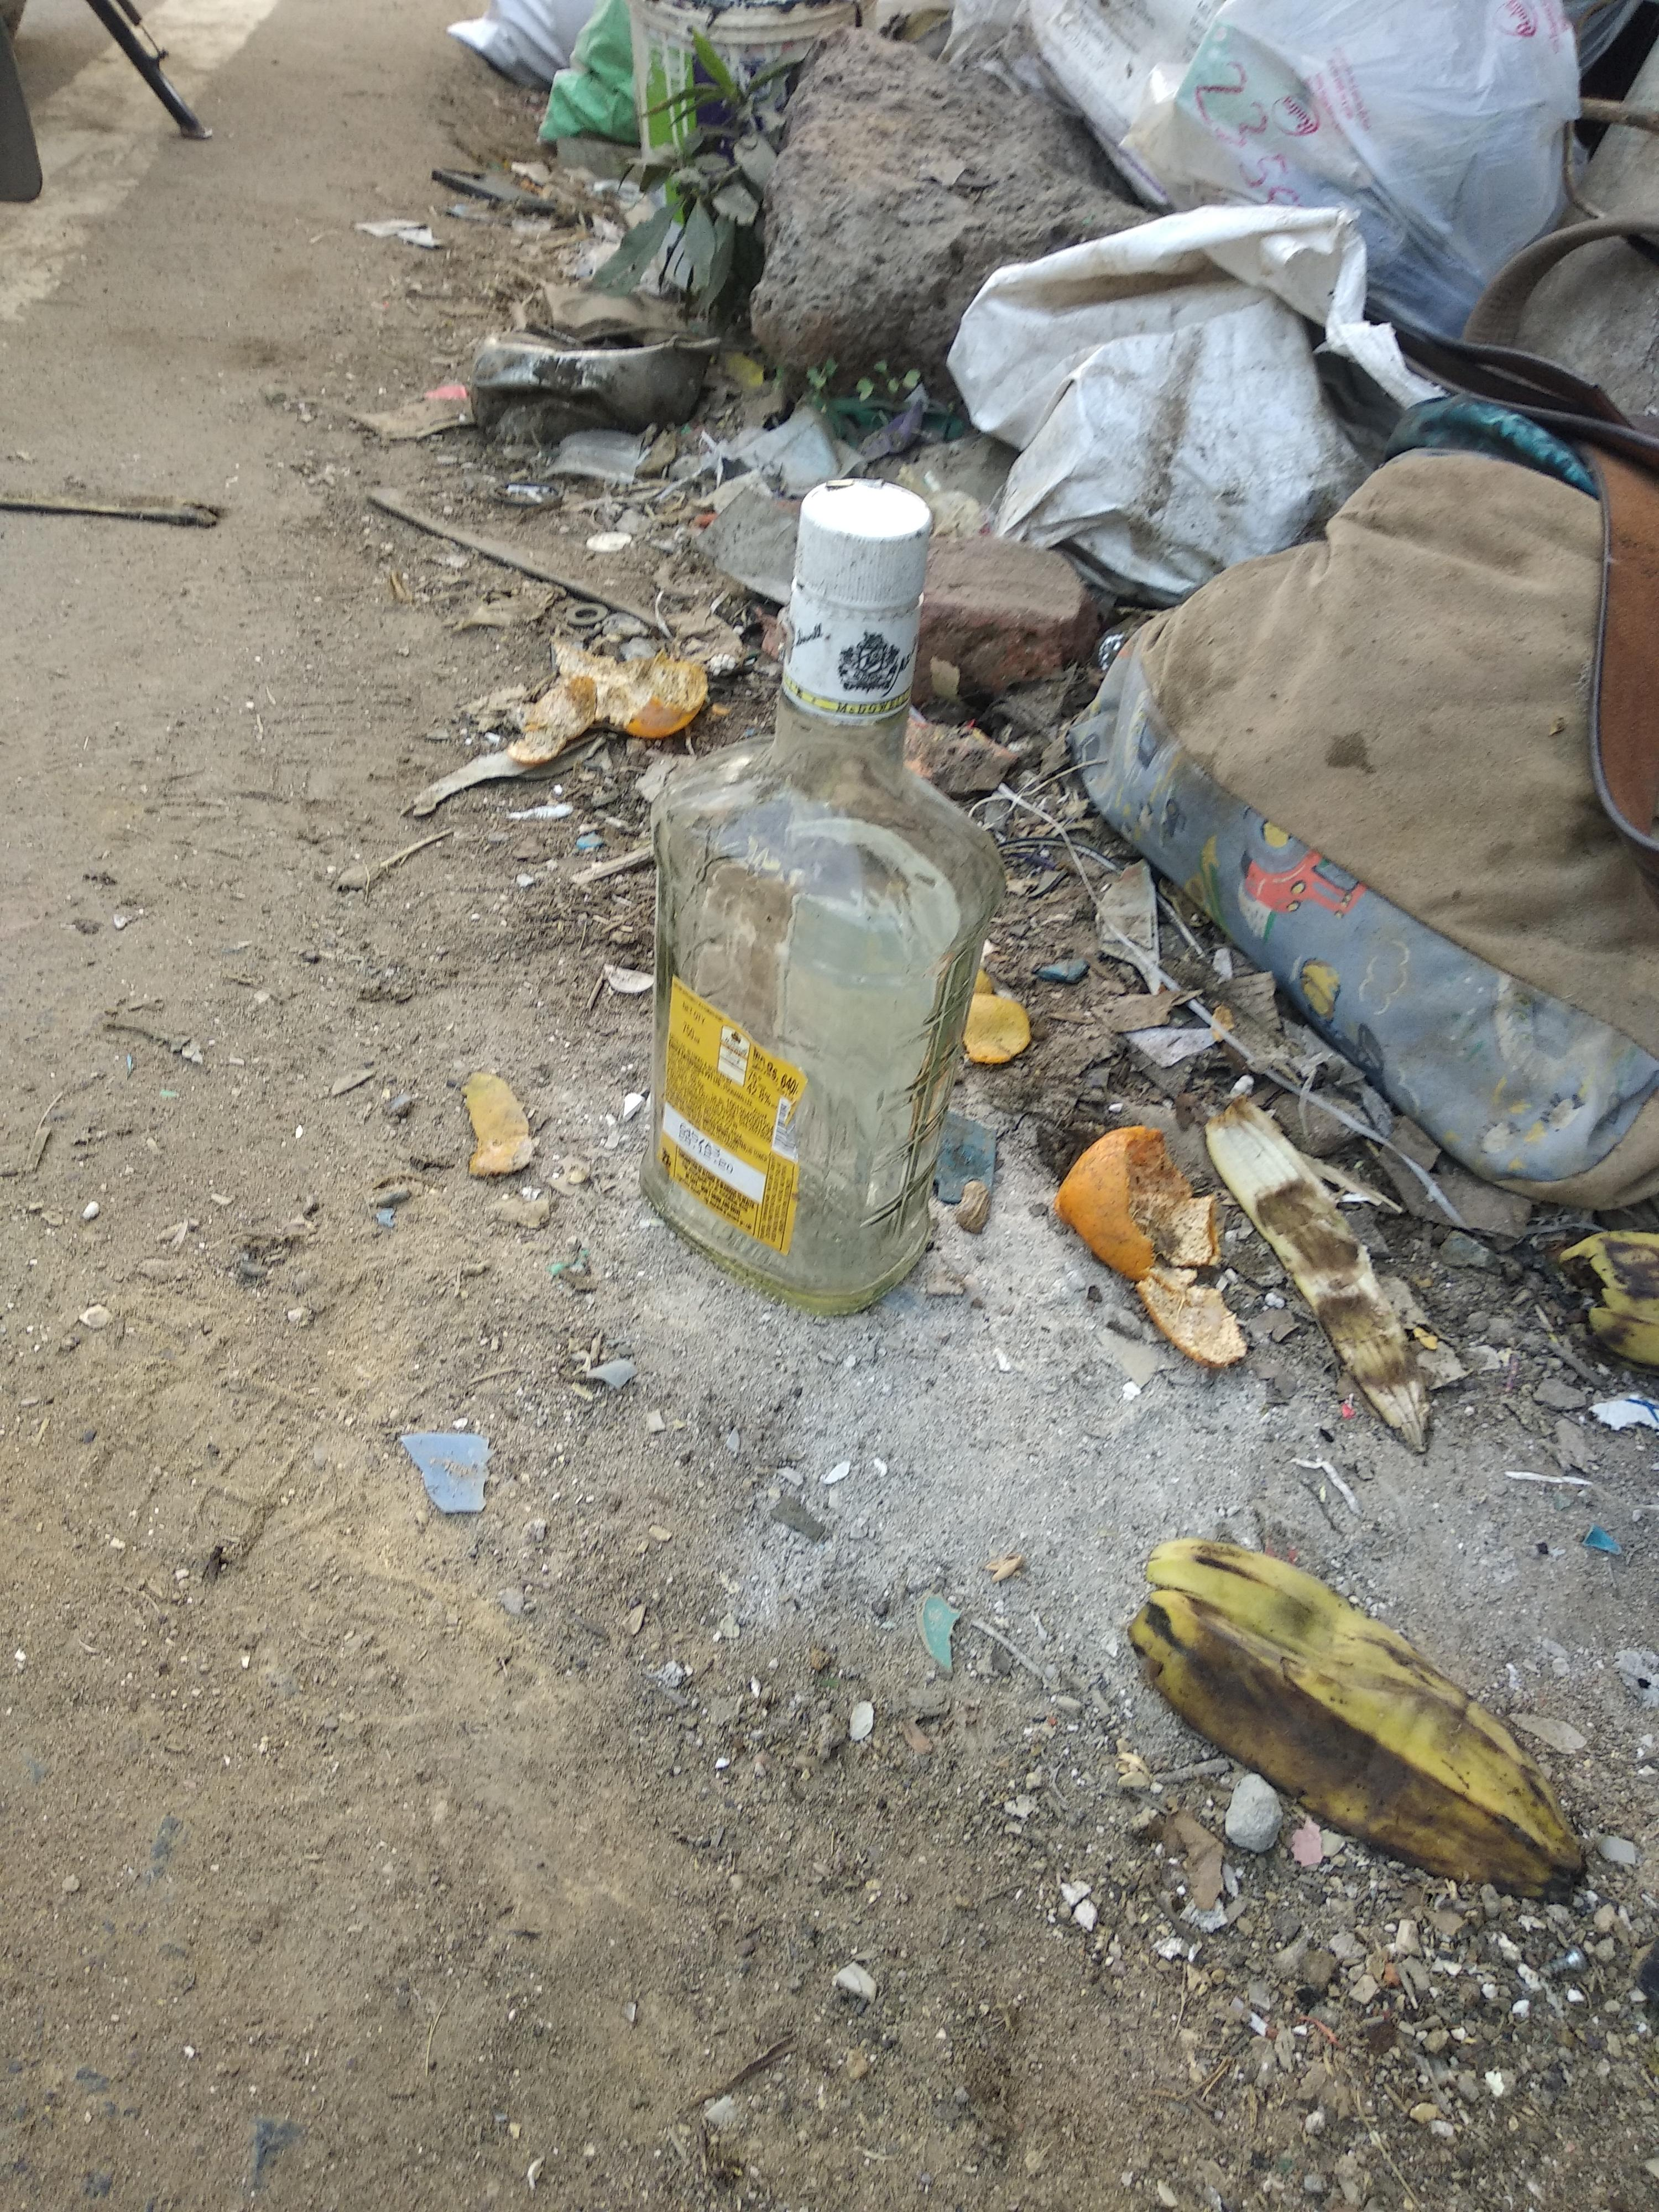organic: (385, 2, 1659, 1919)
